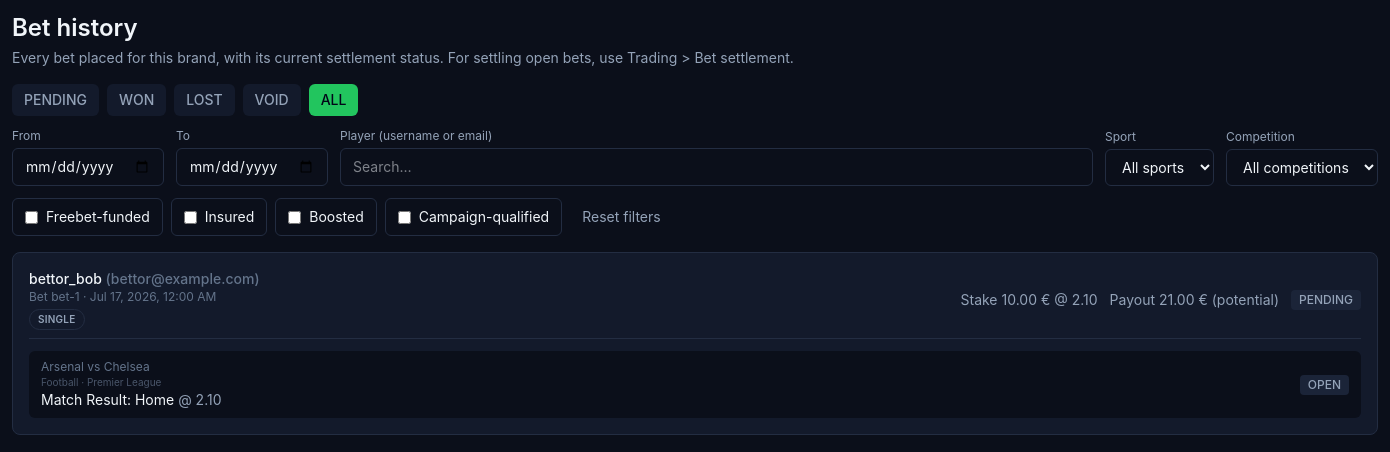
Test: BetHistoryReportPage › resets all filters back to defaults
Expected: the text "Arsenal vs Chelsea" is shown, left=41, top=359, right=150, bottom=374
Type "someone" into the field labelled "Player (username or email)" at (716, 167), box left=340, top=148, right=1093, bottom=186
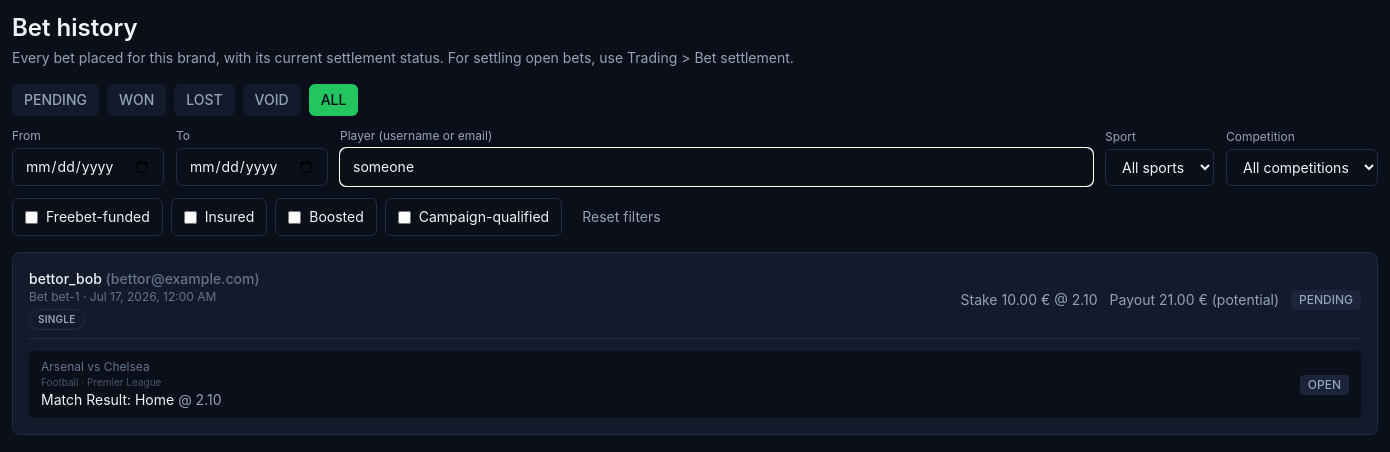
Click the checkbox labelled "Insured" at (190, 217), box left=184, top=210, right=197, bottom=224
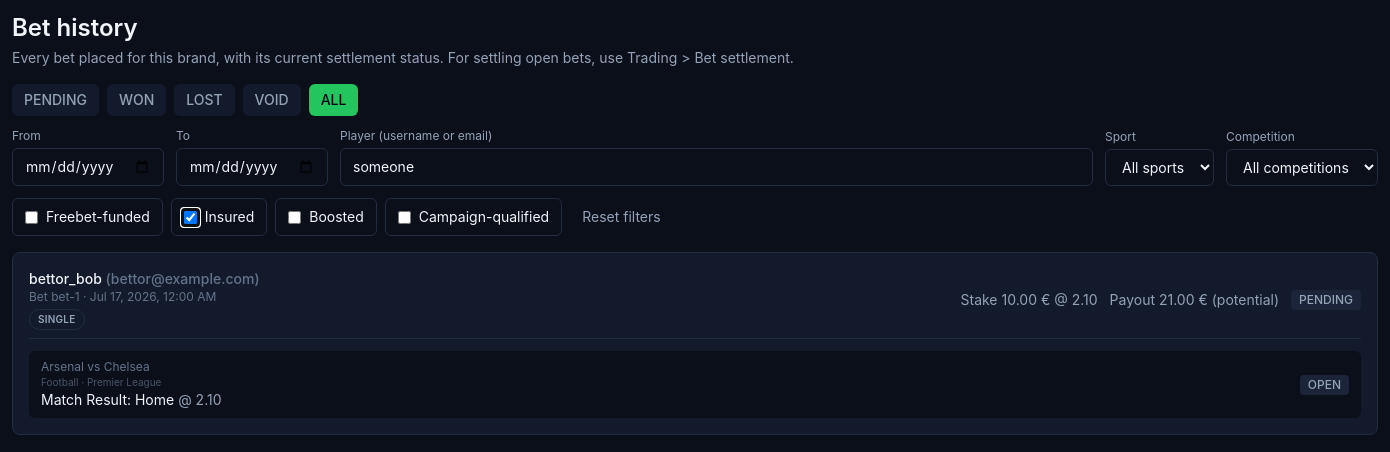
Click the button "Reset filters" at (621, 217), box left=570, top=198, right=673, bottom=236
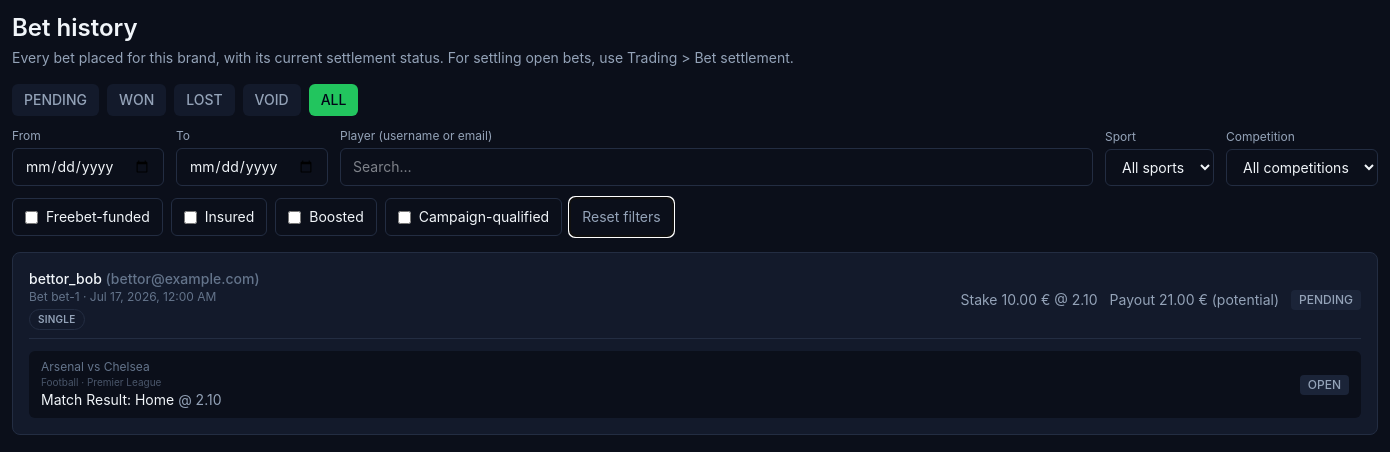
Expected: the checkbox labelled "Insured" is not checked, left=184, top=210, right=197, bottom=224
Expected: the field labelled "Player (username or email)" is empty, left=340, top=148, right=1093, bottom=186
